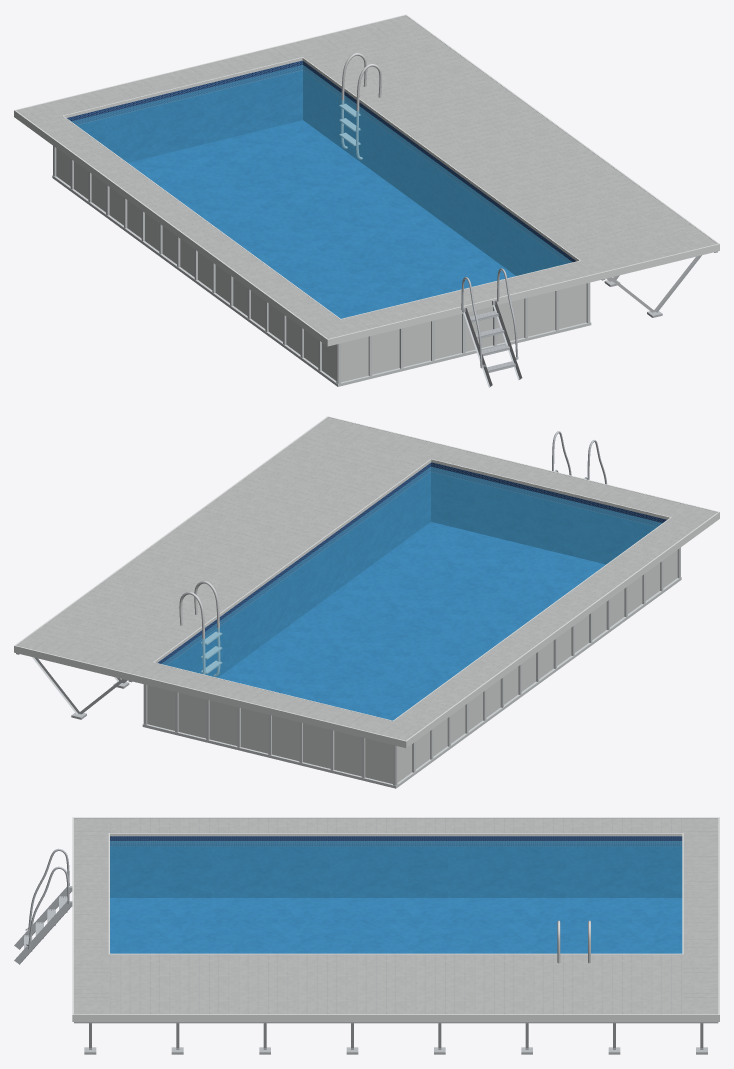
The model's file is kayak-pool-16x32-white-side-ag-nofence.f0930219b8.glb.
The picture shows the model from 3 angles, top to bottom: view 1: azimuth 30°, elevation 25°; view 2: azimuth 150°, elevation 25°; view 3: azimuth 270°, elevation 25°; orthographic projection. The views are drawn at different scales.
Visible parts, largest first — view 1: water, deck, liner_floor, liner_wall, wall, fascia, upright, ladder, steel, stud; view 2: water, deck, liner_floor, liner_wall, wall, fascia, upright, steel, stud; view 3: water, deck, liner_wall, liner_floor, fascia, stud, ladder.
Boxes of the visible parts, box(x1,y1,x2,y2) form: water: box(71, 65, 571, 318); deck: box(16, 15, 717, 338); liner_floor: box(128, 120, 515, 318); liner_wall: box(67, 60, 576, 275); wall: box(56, 148, 586, 382); fascia: box(14, 14, 719, 346); upright: box(52, 146, 591, 386); ladder: box(461, 268, 522, 387); steel: box(339, 53, 381, 159); stud: box(601, 251, 717, 317); water: box(162, 467, 662, 720); deck: box(16, 417, 717, 740); liner_floor: box(218, 522, 605, 720); liner_wall: box(158, 462, 666, 677); wall: box(147, 550, 677, 783); fascia: box(14, 416, 719, 748); upright: box(142, 547, 681, 788); steel: box(179, 581, 222, 676); stud: box(16, 653, 132, 719); water: box(110, 841, 682, 953); deck: box(74, 818, 718, 1014); liner_wall: box(110, 836, 682, 897); liner_floor: box(110, 898, 682, 953); fascia: box(72, 817, 719, 1021); stud: box(74, 1022, 718, 1054); ladder: box(14, 848, 72, 964).
Size of the model in its own units: 7.93 by 1.9 by 11.96.
Materials: 10 (3 with a texture image).
